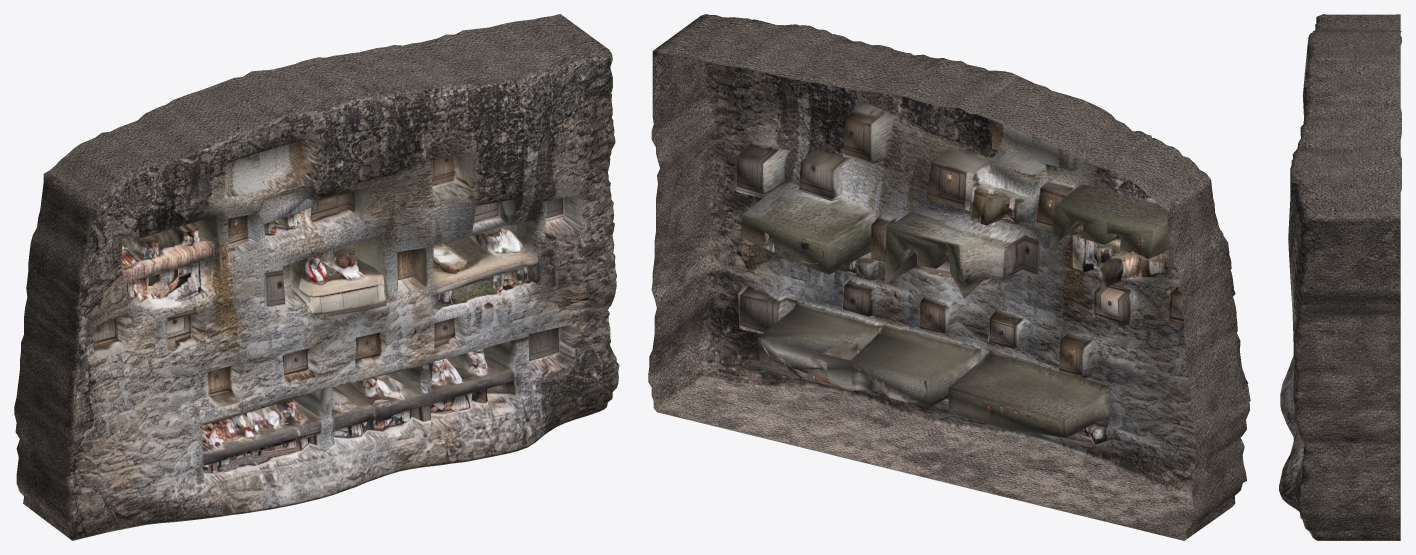
Rendered from toraja.glb.
3 renders of one model, left to right at view 1: azimuth 30°, elevation 25°; view 2: azimuth 150°, elevation 25°; view 3: azimuth 270°, elevation 25°, orthographic. The views are drawn at different scales.
Visible parts, largest first — view 1: tripo_node_36907f85-ec47-4c31-8de6-56fb39762cbc; view 2: tripo_node_36907f85-ec47-4c31-8de6-56fb39762cbc; view 3: tripo_node_36907f85-ec47-4c31-8de6-56fb39762cbc.
Boxes of the visible parts, bbox=[...] form: tripo_node_36907f85-ec47-4c31-8de6-56fb39762cbc: bbox=[14, 14, 619, 540]; tripo_node_36907f85-ec47-4c31-8de6-56fb39762cbc: bbox=[648, 14, 1250, 540]; tripo_node_36907f85-ec47-4c31-8de6-56fb39762cbc: bbox=[1279, 14, 1401, 540].
Bounding box in the file's own units: 0.998 × 0.6582 × 0.2129.
Materials: 1 (1 with a texture image).
